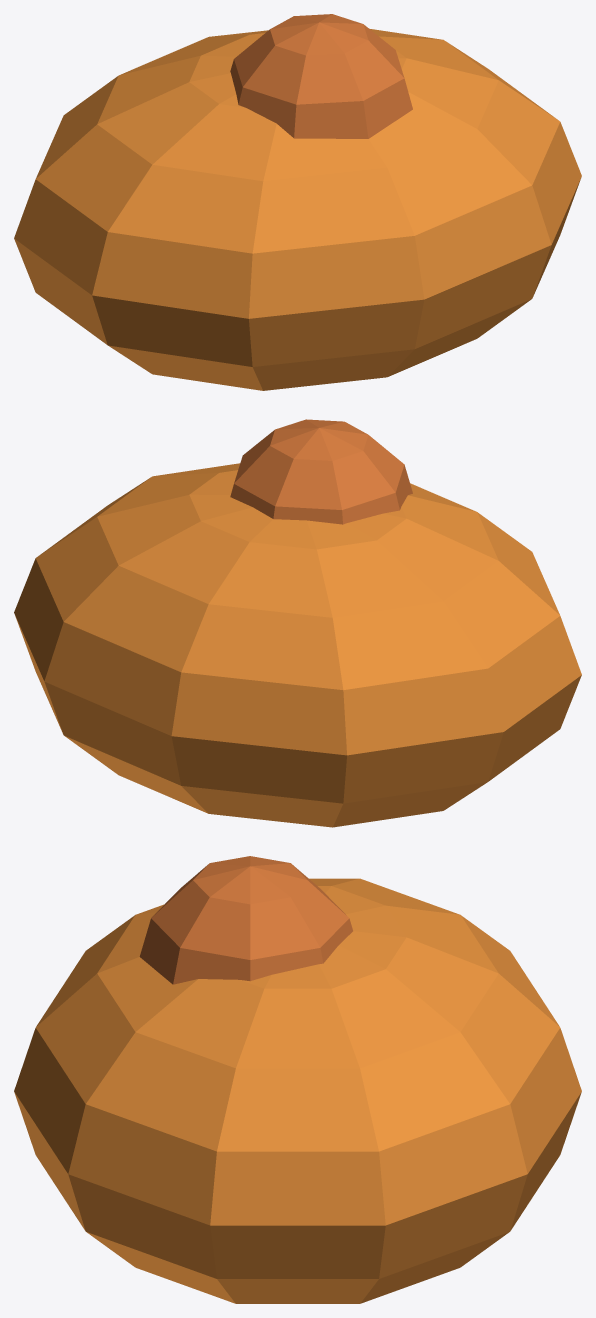
Rendered from bean-bag.glb.
3 views of the same model, one above another, from view 1: azimuth 30°, elevation 25°; view 2: azimuth 150°, elevation 25°; view 3: azimuth 270°, elevation 25° (orthographic). The views are drawn at different scales.
Visible parts, largest first — view 1: BeanBag; view 2: BeanBag; view 3: BeanBag.
Part boxes in pixels (<box>): BeanBag: <box>14,14,581,390</box>; BeanBag: <box>14,419,581,827</box>; BeanBag: <box>14,856,581,1303</box>.
Bounding box in the file's own units: 0.6657 × 0.4525 × 0.595.
